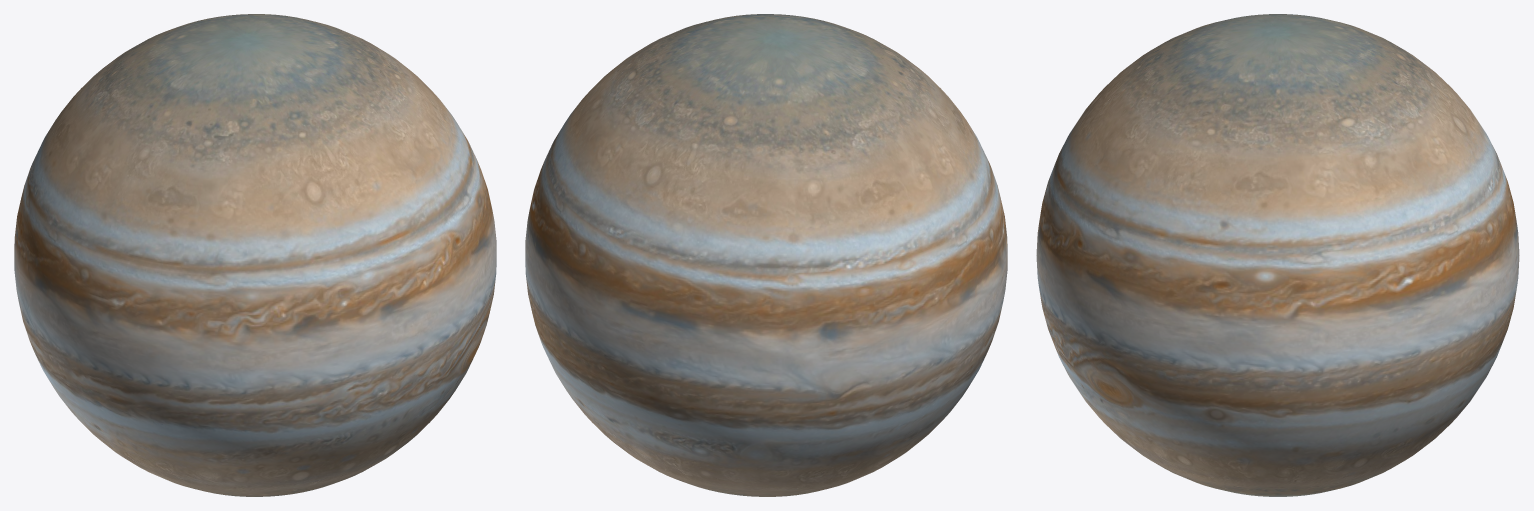
The model's file is jupiter.glb.
3 views of the same model, side by side, from view 1: azimuth 30°, elevation 25°; view 2: azimuth 150°, elevation 25°; view 3: azimuth 270°, elevation 25° (orthographic).
Parts seen in each view (by area): view 1: jupiter; view 2: jupiter; view 3: jupiter.
Part boxes in pixels (left/top/right/bottom): jupiter: left=14, top=14, right=496, bottom=496; jupiter: left=525, top=14, right=1007, bottom=496; jupiter: left=1036, top=14, right=1519, bottom=496.
Size of the model in its own units: 0.3996 by 0.3996 by 0.4.
Materials: 1 (1 with a texture image).
